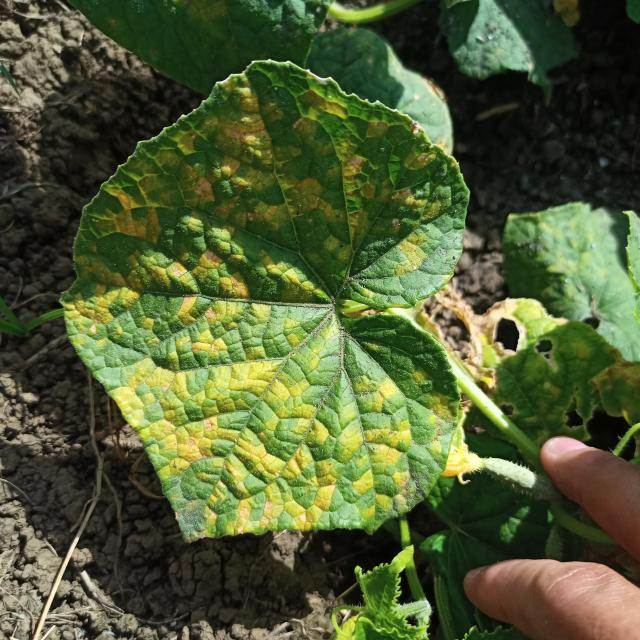disease_cucumber: (70, 71, 462, 535)
